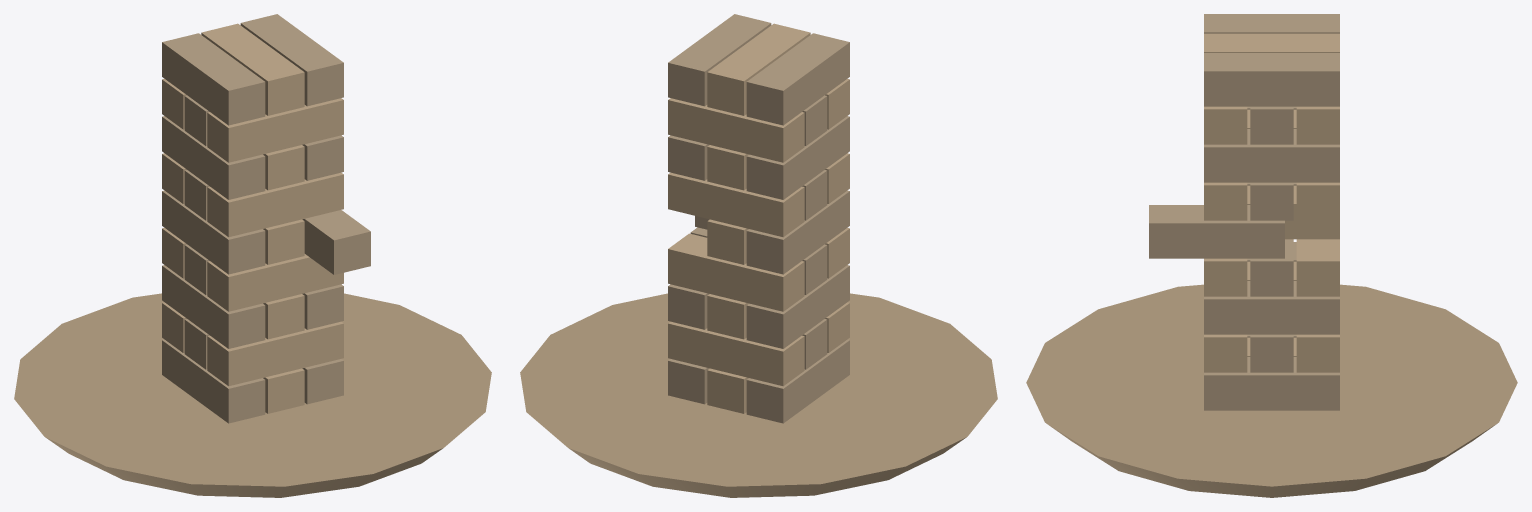
File: party_mg33_pull_tower.glb
The picture shows the model from 3 angles, left to right: view 1: azimuth 30°, elevation 25°; view 2: azimuth 150°, elevation 25°; view 3: azimuth 270°, elevation 25°; orthographic projection. The views are drawn at different scales.
Visible parts, largest first — view 1: _MeshInstance3D_233, _MeshInstance3D_258, _MeshInstance3D_251, _MeshInstance3D_239, _MeshInstance3D_257, _MeshInstance3D_245, _MeshInstance3D_260, _MeshInstance3D_259, _MeshInstance3D_234, _MeshInstance3D_246, _MeshInstance3D_240, _MeshInstance3D_252 (+16 smaller); view 2: _MeshInstance3D_233, _MeshInstance3D_258, _MeshInstance3D_243, _MeshInstance3D_249, _MeshInstance3D_237, _MeshInstance3D_255, _MeshInstance3D_260, _MeshInstance3D_259, _MeshInstance3D_234, _MeshInstance3D_246, _MeshInstance3D_240, _MeshInstance3D_252 (+15 smaller); view 3: _MeshInstance3D_233, _MeshInstance3D_260, _MeshInstance3D_248, _MeshInstance3D_236, _MeshInstance3D_242, _MeshInstance3D_254, _MeshInstance3D_258, _MeshInstance3D_259, _MeshInstance3D_243, _MeshInstance3D_244, _MeshInstance3D_238, _MeshInstance3D_250 (+9 smaller).
Boxes of the visible parts, left/top/right/bottom form: _MeshInstance3D_233: left=14, top=293, right=491, bottom=497; _MeshInstance3D_258: left=162, top=33, right=265, bottom=125; _MeshInstance3D_251: left=207, top=172, right=343, bottom=237; _MeshInstance3D_239: left=207, top=321, right=343, bottom=386; _MeshInstance3D_257: left=207, top=98, right=343, bottom=162; _MeshInstance3D_245: left=207, top=254, right=343, bottom=311; _MeshInstance3D_260: left=240, top=14, right=343, bottom=106; _MeshInstance3D_259: left=201, top=23, right=304, bottom=115; _MeshInstance3D_234: left=162, top=339, right=265, bottom=423; _MeshInstance3D_246: left=162, top=190, right=265, bottom=274; _MeshInstance3D_240: left=162, top=265, right=265, bottom=348; _MeshInstance3D_252: left=162, top=116, right=265, bottom=199; _MeshInstance3D_233: left=520, top=293, right=997, bottom=497; _MeshInstance3D_258: left=746, top=33, right=849, bottom=125; _MeshInstance3D_243: left=668, top=233, right=804, bottom=311; _MeshInstance3D_249: left=668, top=172, right=804, bottom=237; _MeshInstance3D_237: left=668, top=321, right=804, bottom=386; _MeshInstance3D_255: left=668, top=98, right=804, bottom=162; _MeshInstance3D_260: left=668, top=14, right=771, bottom=106; _MeshInstance3D_259: left=707, top=23, right=810, bottom=115; _MeshInstance3D_234: left=746, top=339, right=849, bottom=423; _MeshInstance3D_246: left=746, top=190, right=849, bottom=274; _MeshInstance3D_240: left=746, top=265, right=849, bottom=348; _MeshInstance3D_252: left=746, top=116, right=849, bottom=199; _MeshInstance3D_233: left=1026, top=284, right=1517, bottom=497; _MeshInstance3D_260: left=1204, top=53, right=1339, bottom=106; _MeshInstance3D_248: left=1149, top=205, right=1284, bottom=258; _MeshInstance3D_236: left=1204, top=357, right=1339, bottom=410; _MeshInstance3D_242: left=1204, top=281, right=1339, bottom=334; _MeshInstance3D_254: left=1204, top=129, right=1339, bottom=182; _MeshInstance3D_258: left=1204, top=14, right=1339, bottom=33; _MeshInstance3D_259: left=1204, top=33, right=1339, bottom=52; _MeshInstance3D_243: left=1296, top=239, right=1339, bottom=296; _MeshInstance3D_244: left=1250, top=239, right=1293, bottom=296; _MeshInstance3D_238: left=1250, top=334, right=1293, bottom=372; _MeshInstance3D_250: left=1250, top=182, right=1293, bottom=220.
Size of the model in its own units: 3.4 by 2.78 by 3.4.
